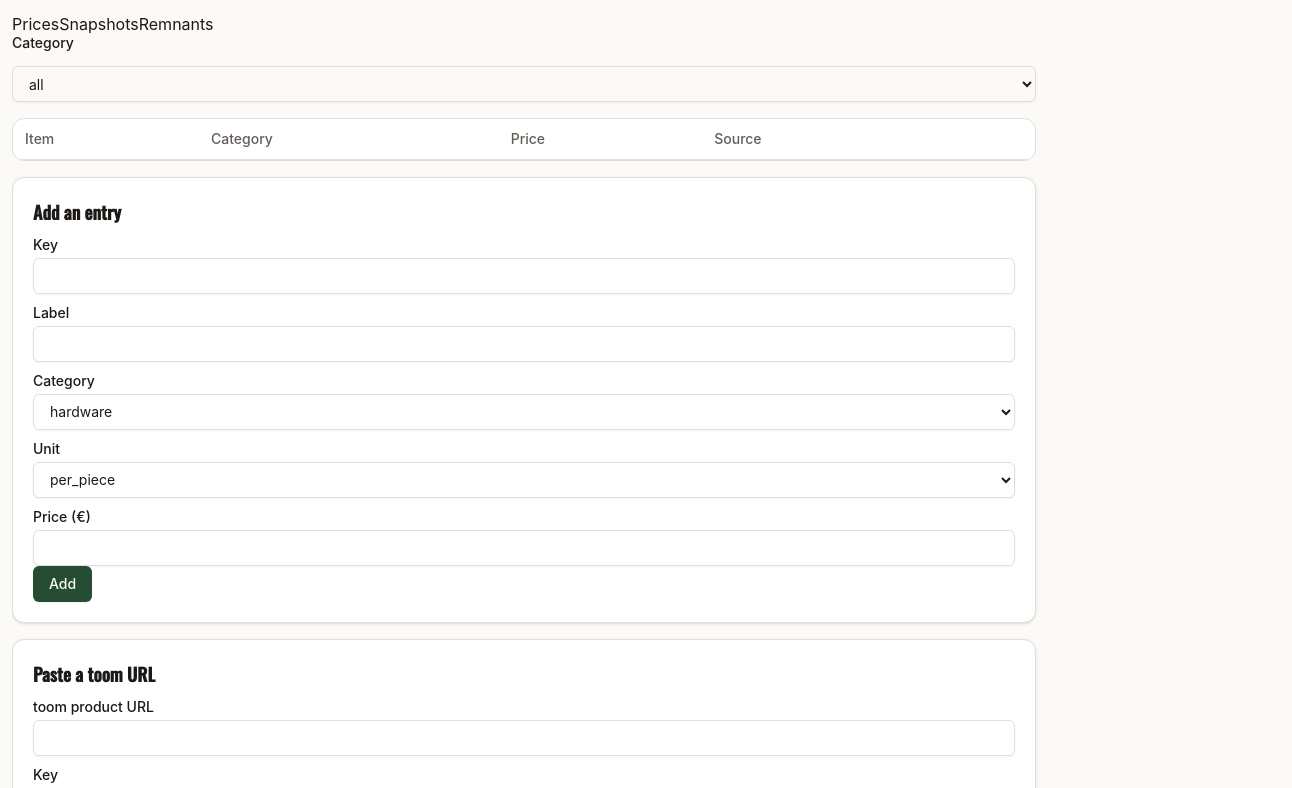
it: choosing a view changes the address and shows only that view
Step 1. Click the link "Remnants" → (176, 24), box [139,14,214,34]
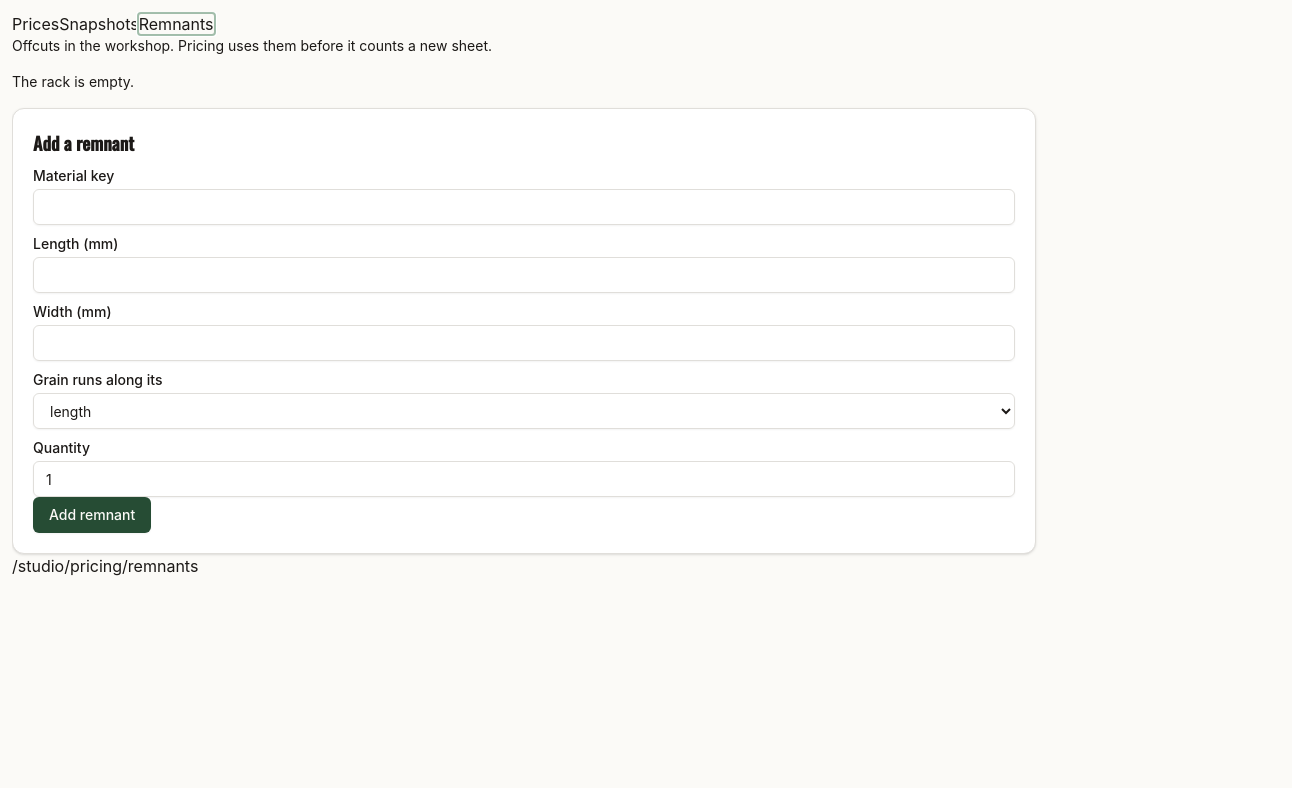
Check: the text named "address" reads "/studio/pricing/remnants", box [12,556,198,576]
Check: the text "The rack is empty." is shown, box [12,73,134,90]
Check: the table is gone
